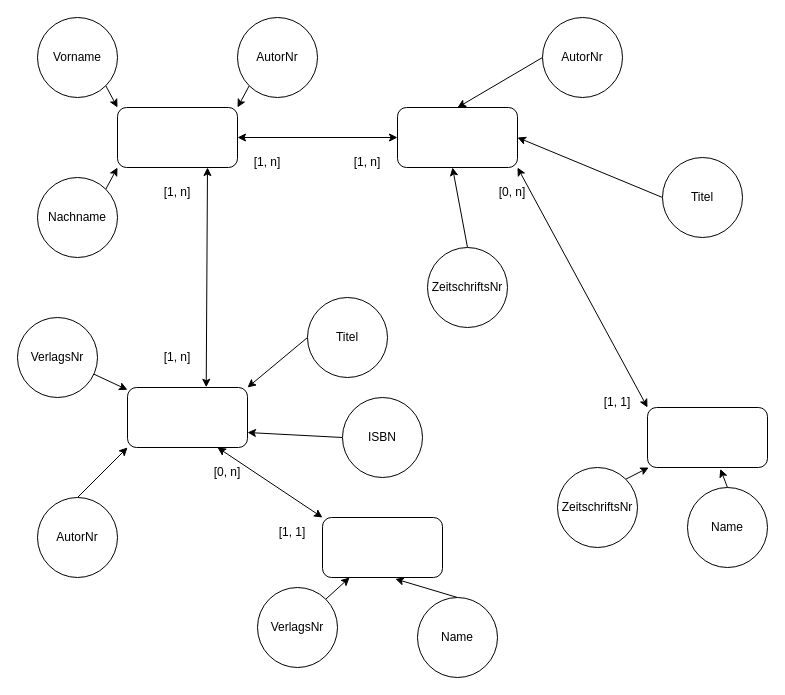
Image size: 785x695. Some labels were removed from this diagram. The shapes that lost their labels are listed below. From the top down, each one's centre as x and y in pixels, then its label:
point (177, 137): Autor
point (457, 137): Artikel
point (187, 417): Buch
point (707, 437): Zeitschrift
point (382, 547): Verlag
